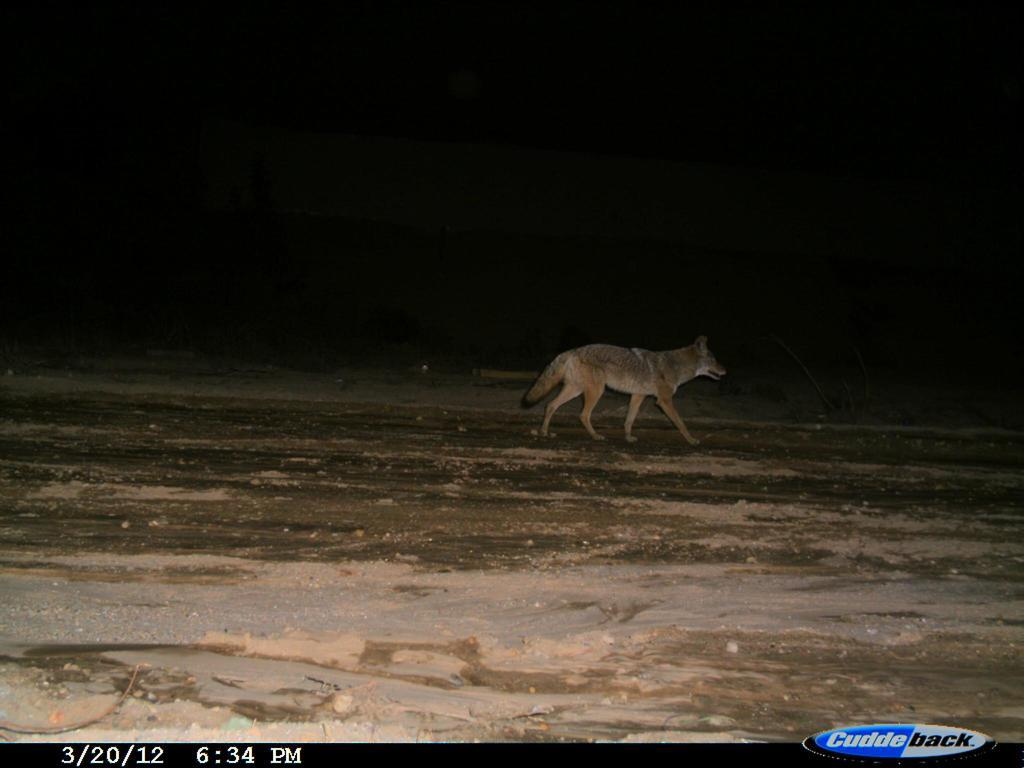coyote: (513, 323, 724, 450)
